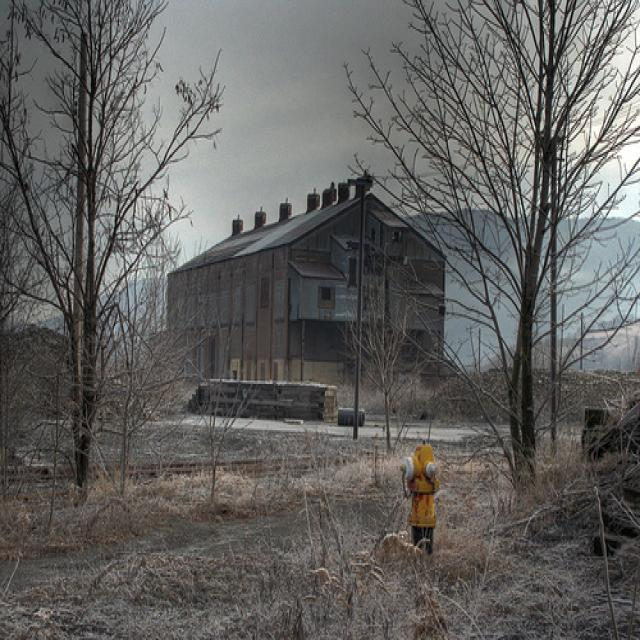fire_hydrant: (399, 442, 439, 553)
